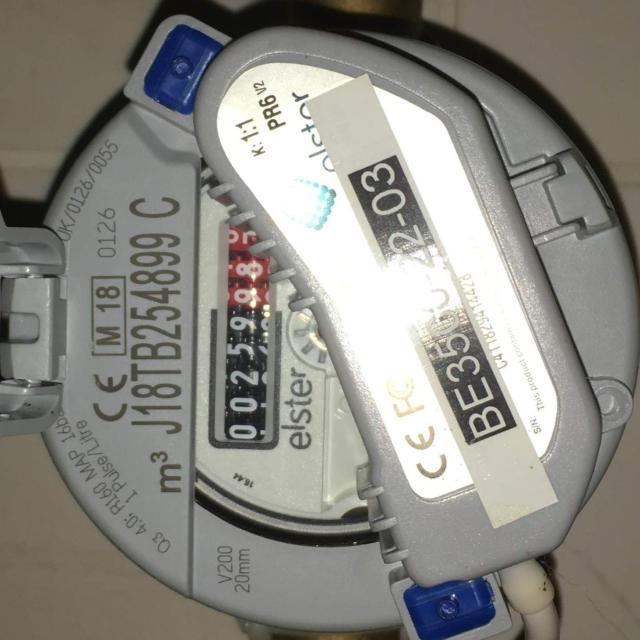gaz_meter: (38, 14, 635, 630)
indication: (219, 218, 279, 444)
